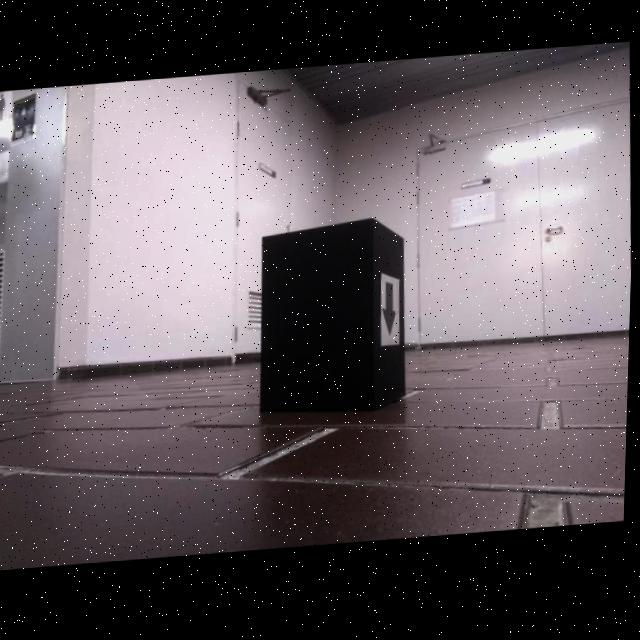DOWN: (384, 284, 399, 340)
